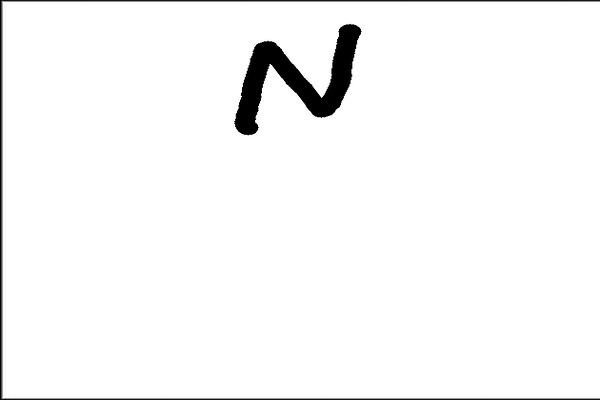N: (228, 19, 368, 139)
